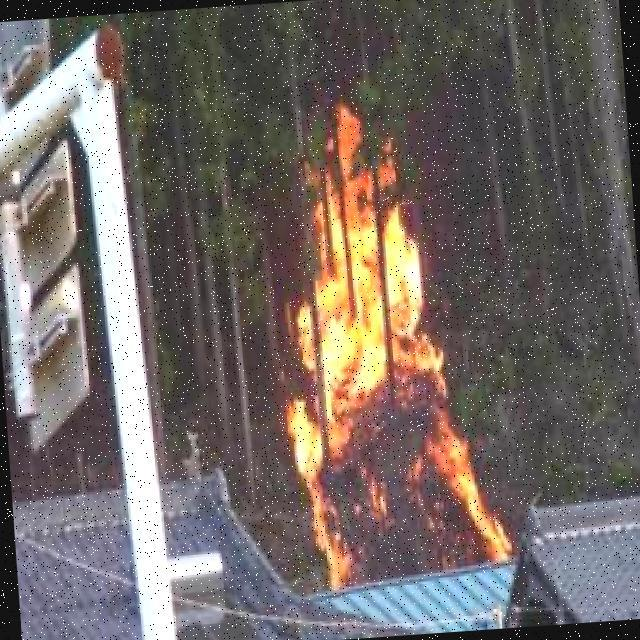Fire: (273, 101, 499, 596)
